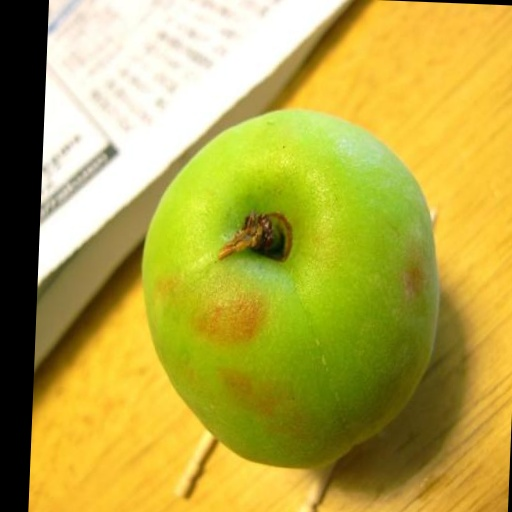fruit: (143, 111, 438, 467)
